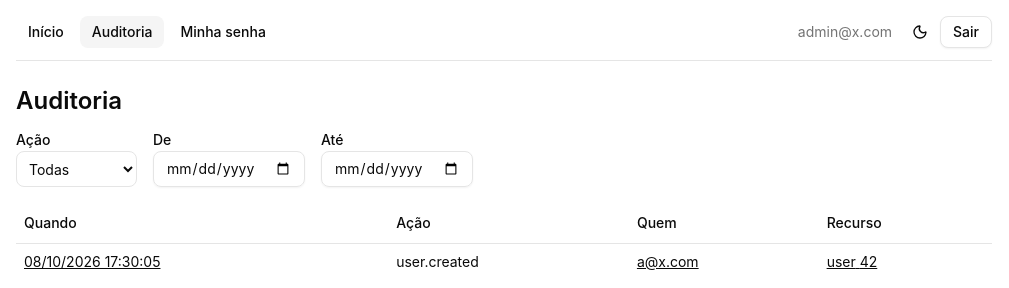
Scenario: AuditList on /audit › filters by actor and resource
Click the button "a@x.com". click: (668, 262)
box: [637,252,699,272]
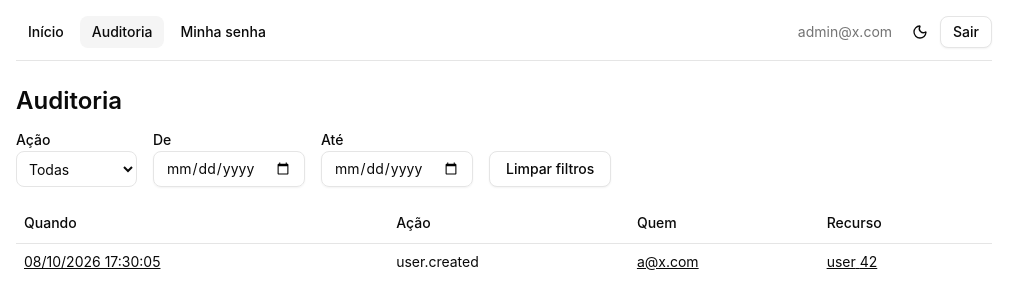
Click the button "Limpar filtros". click: (550, 169)
box: [489,151,611,187]
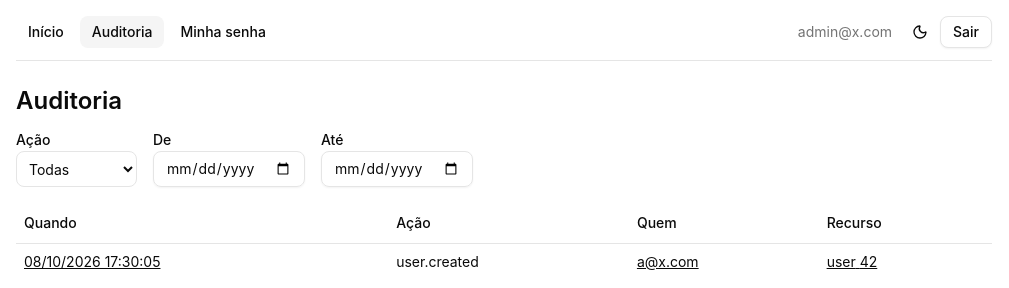
Click the button "user 42". click: (852, 262)
box: [827,252,877,272]
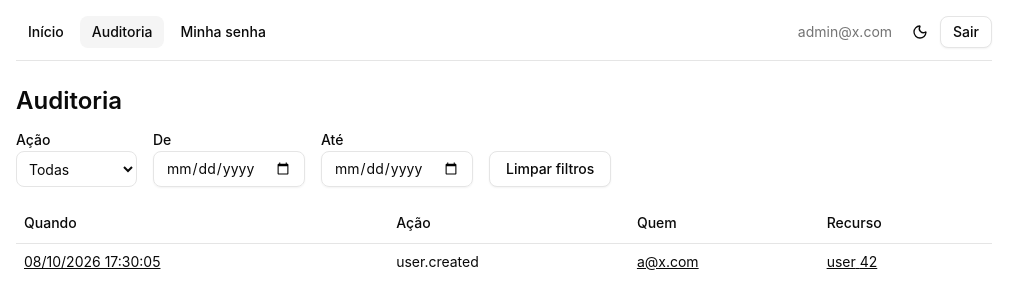
Expected: the button "Limpar filtros" is shown, [489,151,611,187]
